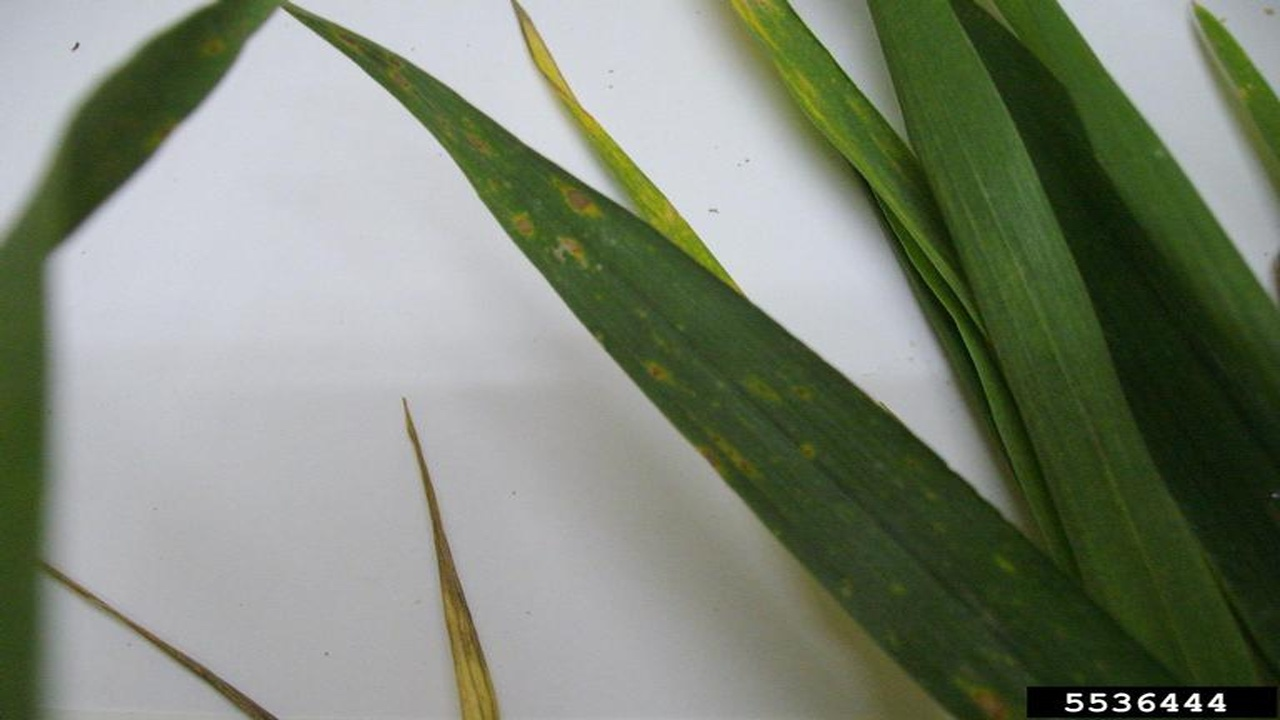tan_spot: (279, 3, 1023, 720)
